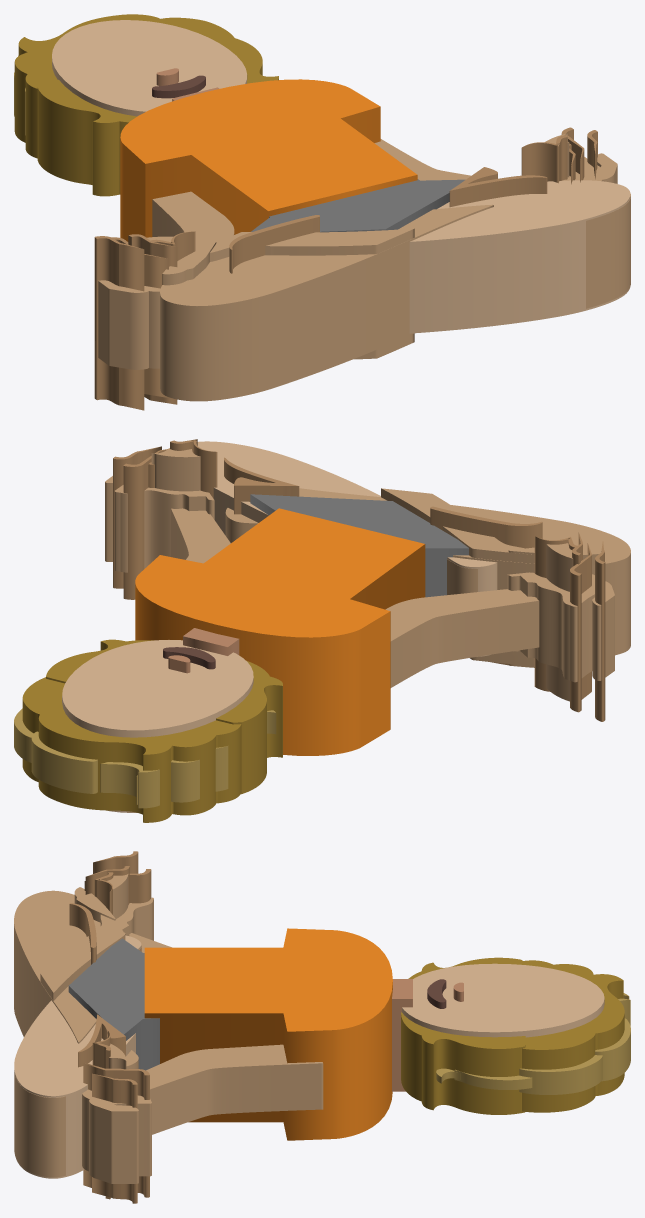
File: emoji_u1f9d8_1f3fc.glb
3 renders of one model, top to bottom at view 1: azimuth 30°, elevation 25°; view 2: azimuth 150°, elevation 25°; view 3: azimuth 270°, elevation 25°, orthographic. The views are drawn at different scales.
Parts seen in each view (by area): view 1: emoji_u1f9d8_1f3fc; view 2: emoji_u1f9d8_1f3fc; view 3: emoji_u1f9d8_1f3fc.
Boxes of the visible parts, left/top/right/bottom form: emoji_u1f9d8_1f3fc: left=14, top=14, right=630, bottom=410; emoji_u1f9d8_1f3fc: left=14, top=439, right=630, bottom=822; emoji_u1f9d8_1f3fc: left=14, top=851, right=630, bottom=1203.
Size of the model in its own units: 0.029 by 0.009 by 0.0339.
